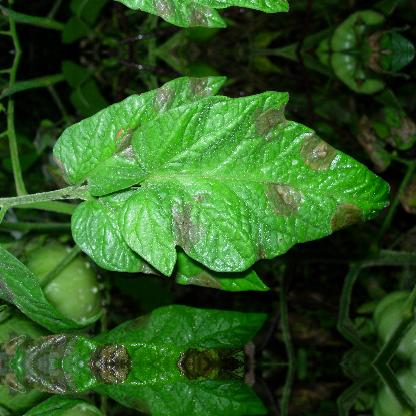Late-Blight: (40, 67, 398, 287)
